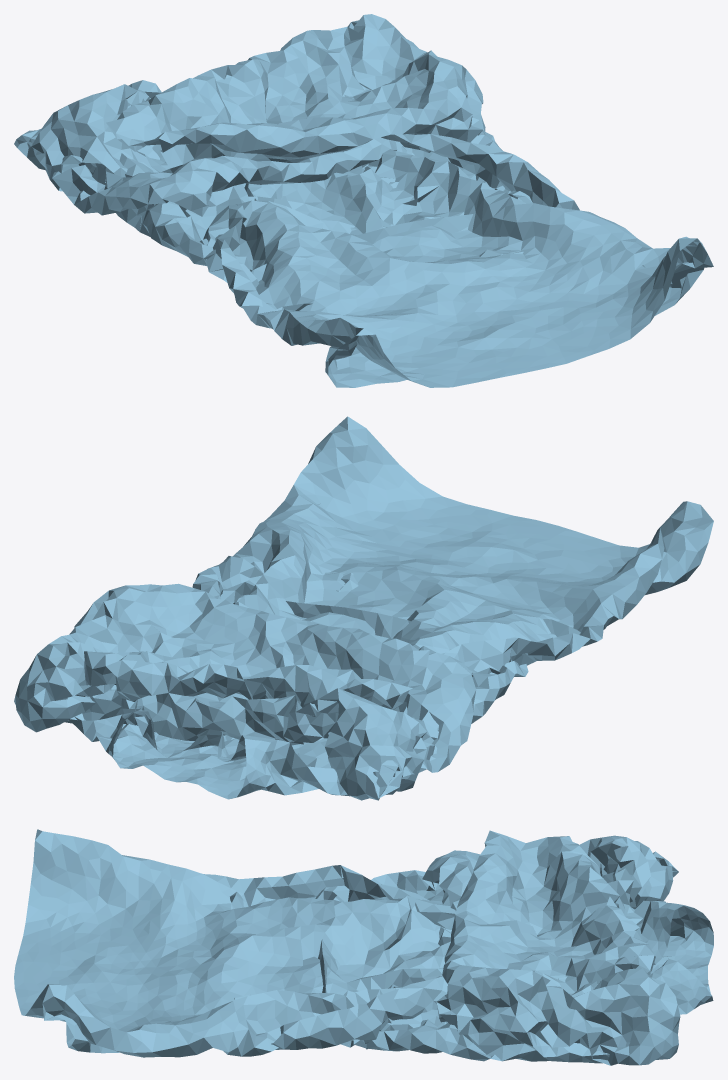
The model's file is frame_01.glb.
The picture shows the model from 3 angles, top to bottom: view 1: azimuth 30°, elevation 25°; view 2: azimuth 150°, elevation 25°; view 3: azimuth 270°, elevation 25°; orthographic projection. The views are drawn at different scales.
Visible parts, largest first — view 1: frame_01.obj; view 2: frame_01.obj; view 3: frame_01.obj.
Boxes of the visible parts, <box> form: frame_01.obj: <box>14,14,713,387</box>; frame_01.obj: <box>14,416,713,800</box>; frame_01.obj: <box>14,829,713,1065</box>.
Size of the model in its own units: 0.936 by 0.218 by 1.49.
